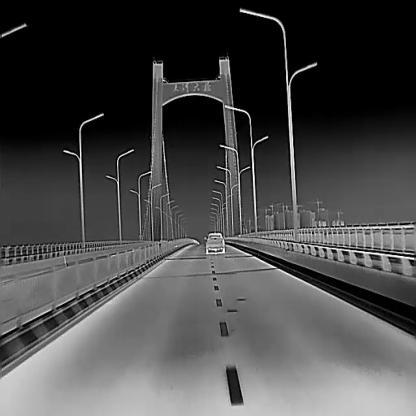car: (206, 232, 225, 253)
